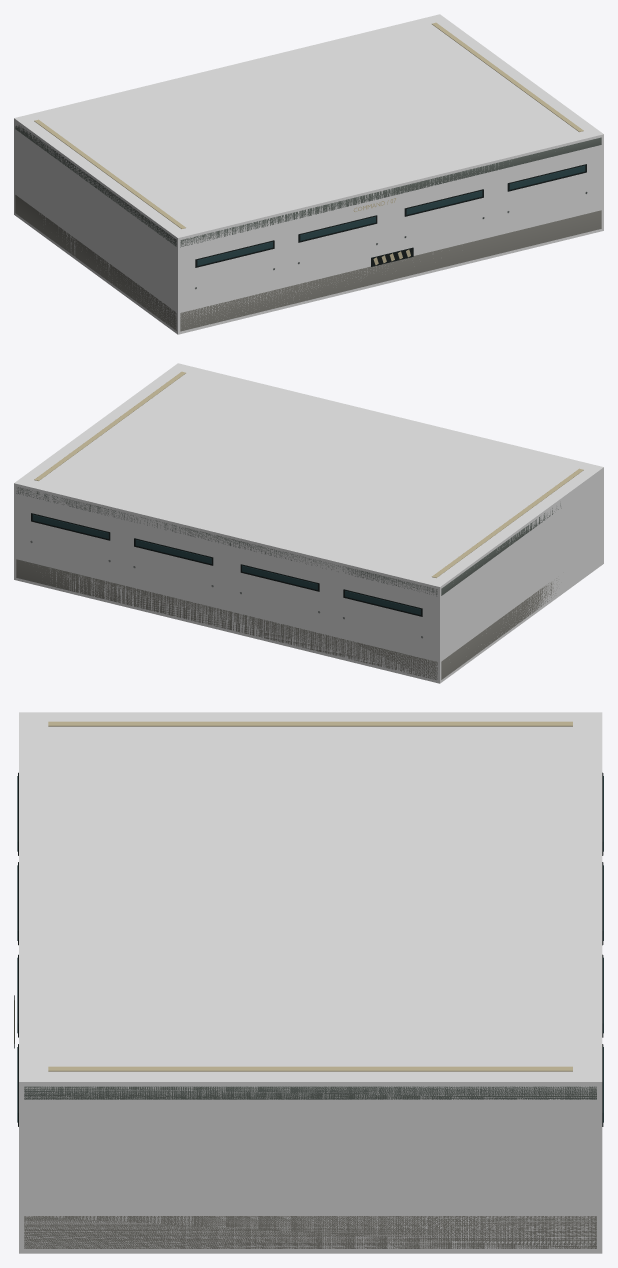
File: m2_command_bunker.glb
3 views of the same model, one above another, from view 1: azimuth 30°, elevation 25°; view 2: azimuth 150°, elevation 25°; view 3: azimuth 270°, elevation 25° (orthographic). The views are drawn at different scales.
Parts seen in each view (by area): view 1: COL_m2_command_bunker, m2_command_bunker_nc7_concrete, m2_command_bunker_nc7_panel, m2_command_bunker_nc7_glass, m2_command_bunker_nc7_marking, m2_command_bunker_nc7_dark; view 2: COL_m2_command_bunker, m2_command_bunker_nc7_concrete, m2_command_bunker_nc7_panel, m2_command_bunker_nc7_glass, m2_command_bunker_nc7_marking, m2_command_bunker_nc7_dark; view 3: COL_m2_command_bunker, m2_command_bunker_nc7_concrete, m2_command_bunker_nc7_panel, m2_command_bunker_nc7_marking, m2_command_bunker_nc7_dark.
Part boxes in pixels (left/top/right/bottom): COL_m2_command_bunker: left=14, top=14, right=603, bottom=334; m2_command_bunker_nc7_concrete: left=15, top=195, right=601, bottom=331; m2_command_bunker_nc7_panel: left=15, top=125, right=601, bottom=247; m2_command_bunker_nc7_glass: left=197, top=165, right=585, bottom=265; m2_command_bunker_nc7_marking: left=34, top=22, right=583, bottom=265; m2_command_bunker_nc7_dark: left=195, top=164, right=586, bottom=288; COL_m2_command_bunker: left=14, top=363, right=603, bottom=683; m2_command_bunker_nc7_concrete: left=16, top=559, right=556, bottom=679; m2_command_bunker_nc7_panel: left=16, top=487, right=561, bottom=596; m2_command_bunker_nc7_glass: left=32, top=514, right=420, bottom=614; m2_command_bunker_nc7_marking: left=34, top=371, right=583, bottom=577; m2_command_bunker_nc7_dark: left=31, top=513, right=422, bottom=616; COL_m2_command_bunker: left=19, top=712, right=602, bottom=1253; m2_command_bunker_nc7_concrete: left=24, top=1216, right=596, bottom=1248; m2_command_bunker_nc7_panel: left=24, top=1086, right=596, bottom=1099; m2_command_bunker_nc7_marking: left=14, top=721, right=572, bottom=1071; m2_command_bunker_nc7_dark: left=14, top=772, right=603, bottom=1126.
Size of the model in its own units: 12 by 2.61 by 8.09.
